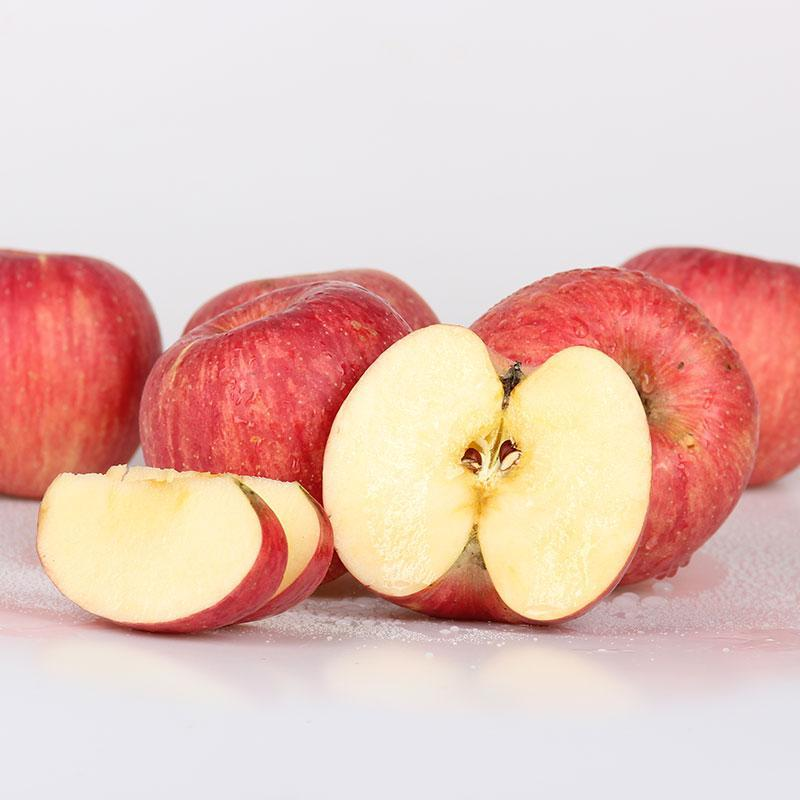apple: (471, 264, 757, 582), (145, 275, 417, 520), (612, 243, 799, 486), (1, 246, 161, 497)
